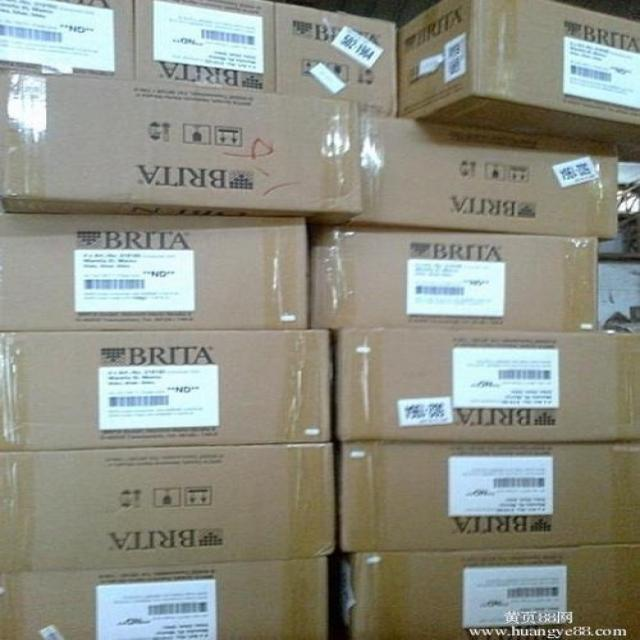Carton: (0, 79, 616, 236), (0, 448, 332, 639), (337, 445, 637, 639), (0, 334, 333, 450), (0, 213, 300, 334), (337, 331, 635, 442), (401, 0, 639, 126), (316, 226, 591, 331)
